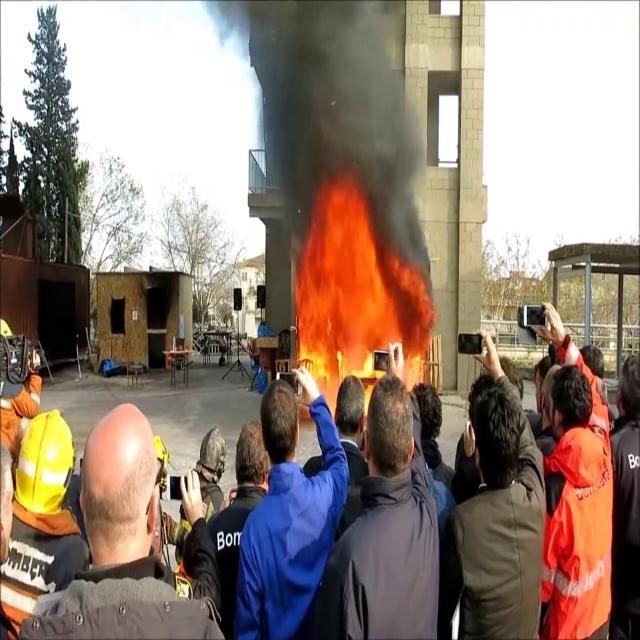Fire: (286, 180, 438, 422)
Smoke: (224, 0, 438, 238)
